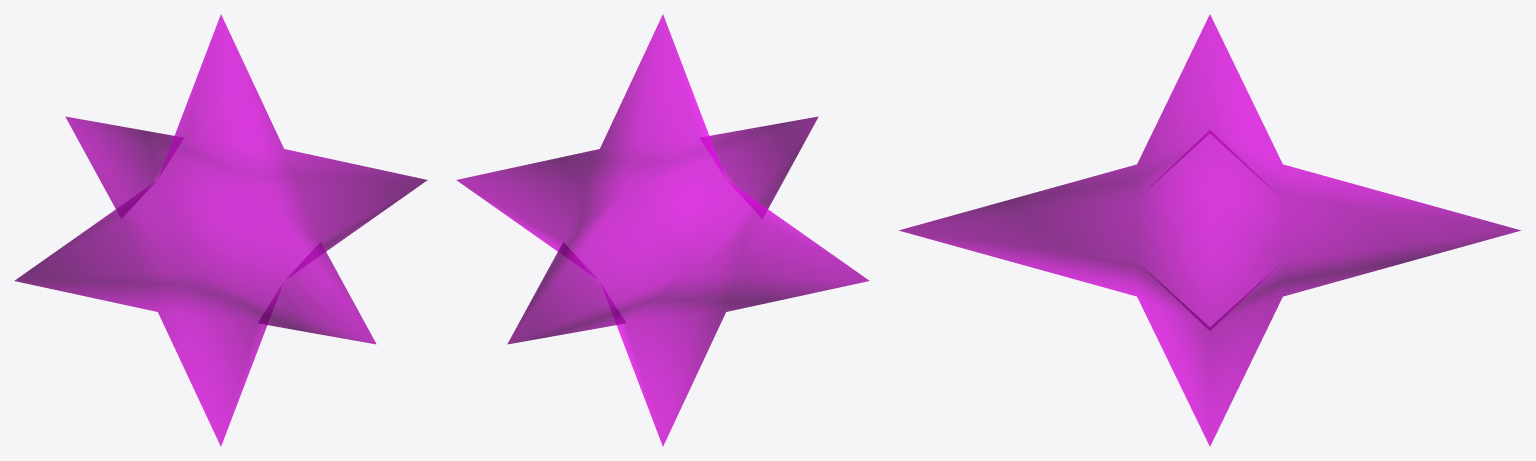
Rendered from BasicAttack.fbx.
3 views of the same model, side by side, from view 1: azimuth 30°, elevation 25°; view 2: azimuth 150°, elevation 25°; view 3: azimuth 270°, elevation 25° (orthographic).
Visible parts, largest first — view 1: pCube1; view 2: pCube1; view 3: pCube1.
Part boxes in pixels (<box>): pCube1: <box>14,14,427,446</box>; pCube1: <box>456,14,869,446</box>; pCube1: <box>898,14,1521,446</box>.
Size of the model in its own units: 98.22 by 98.22 by 128.
